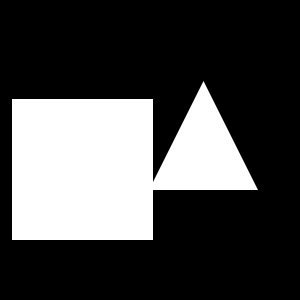circle: (12, 99, 153, 240)
triangle: (149, 81, 258, 190)
